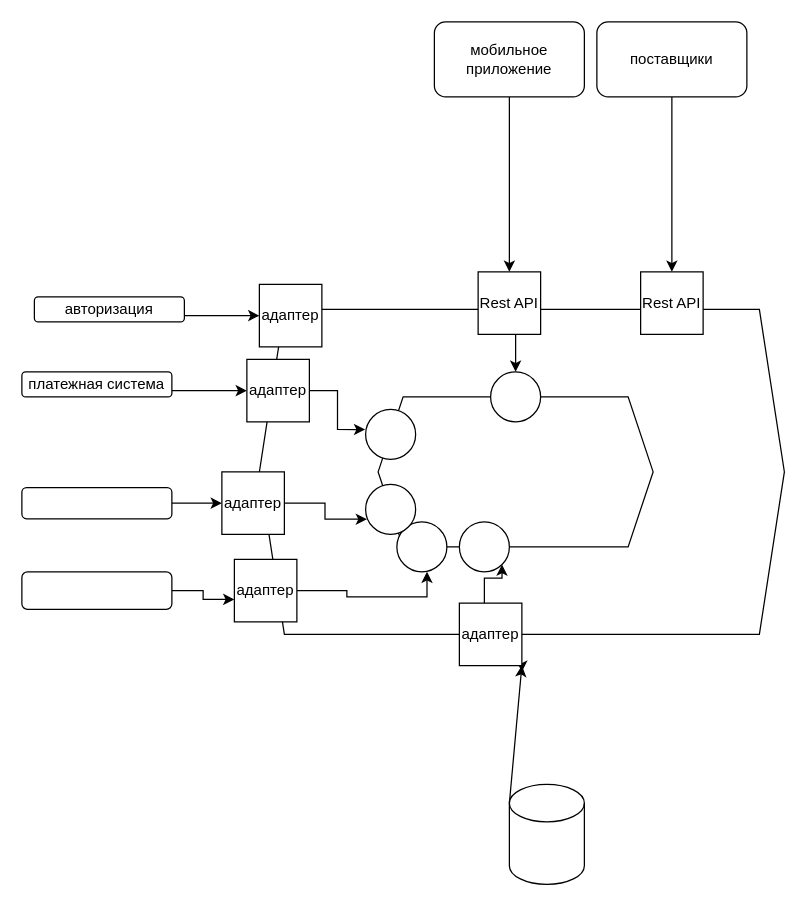
Some shapes in this 806 by 906 pixel diagram are drawn without their labels. Here are the shapes that lost their labels. From the top down, the box of each, then its label:
(377, 396, 653, 547): товары покупки финансы поставки
(21, 486, 172, 519): 1C
(21, 571, 172, 609): рассылка
(508, 783, 584, 884): База данных
